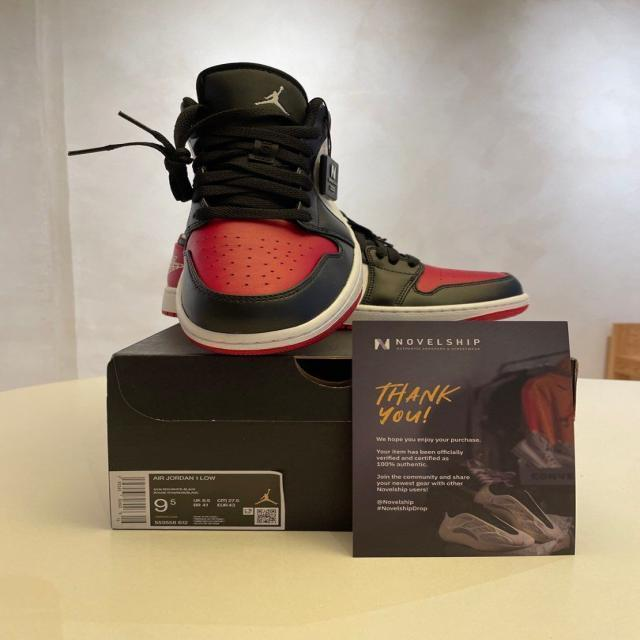nike original jordan 1: (162, 56, 377, 353), (160, 221, 541, 330)
